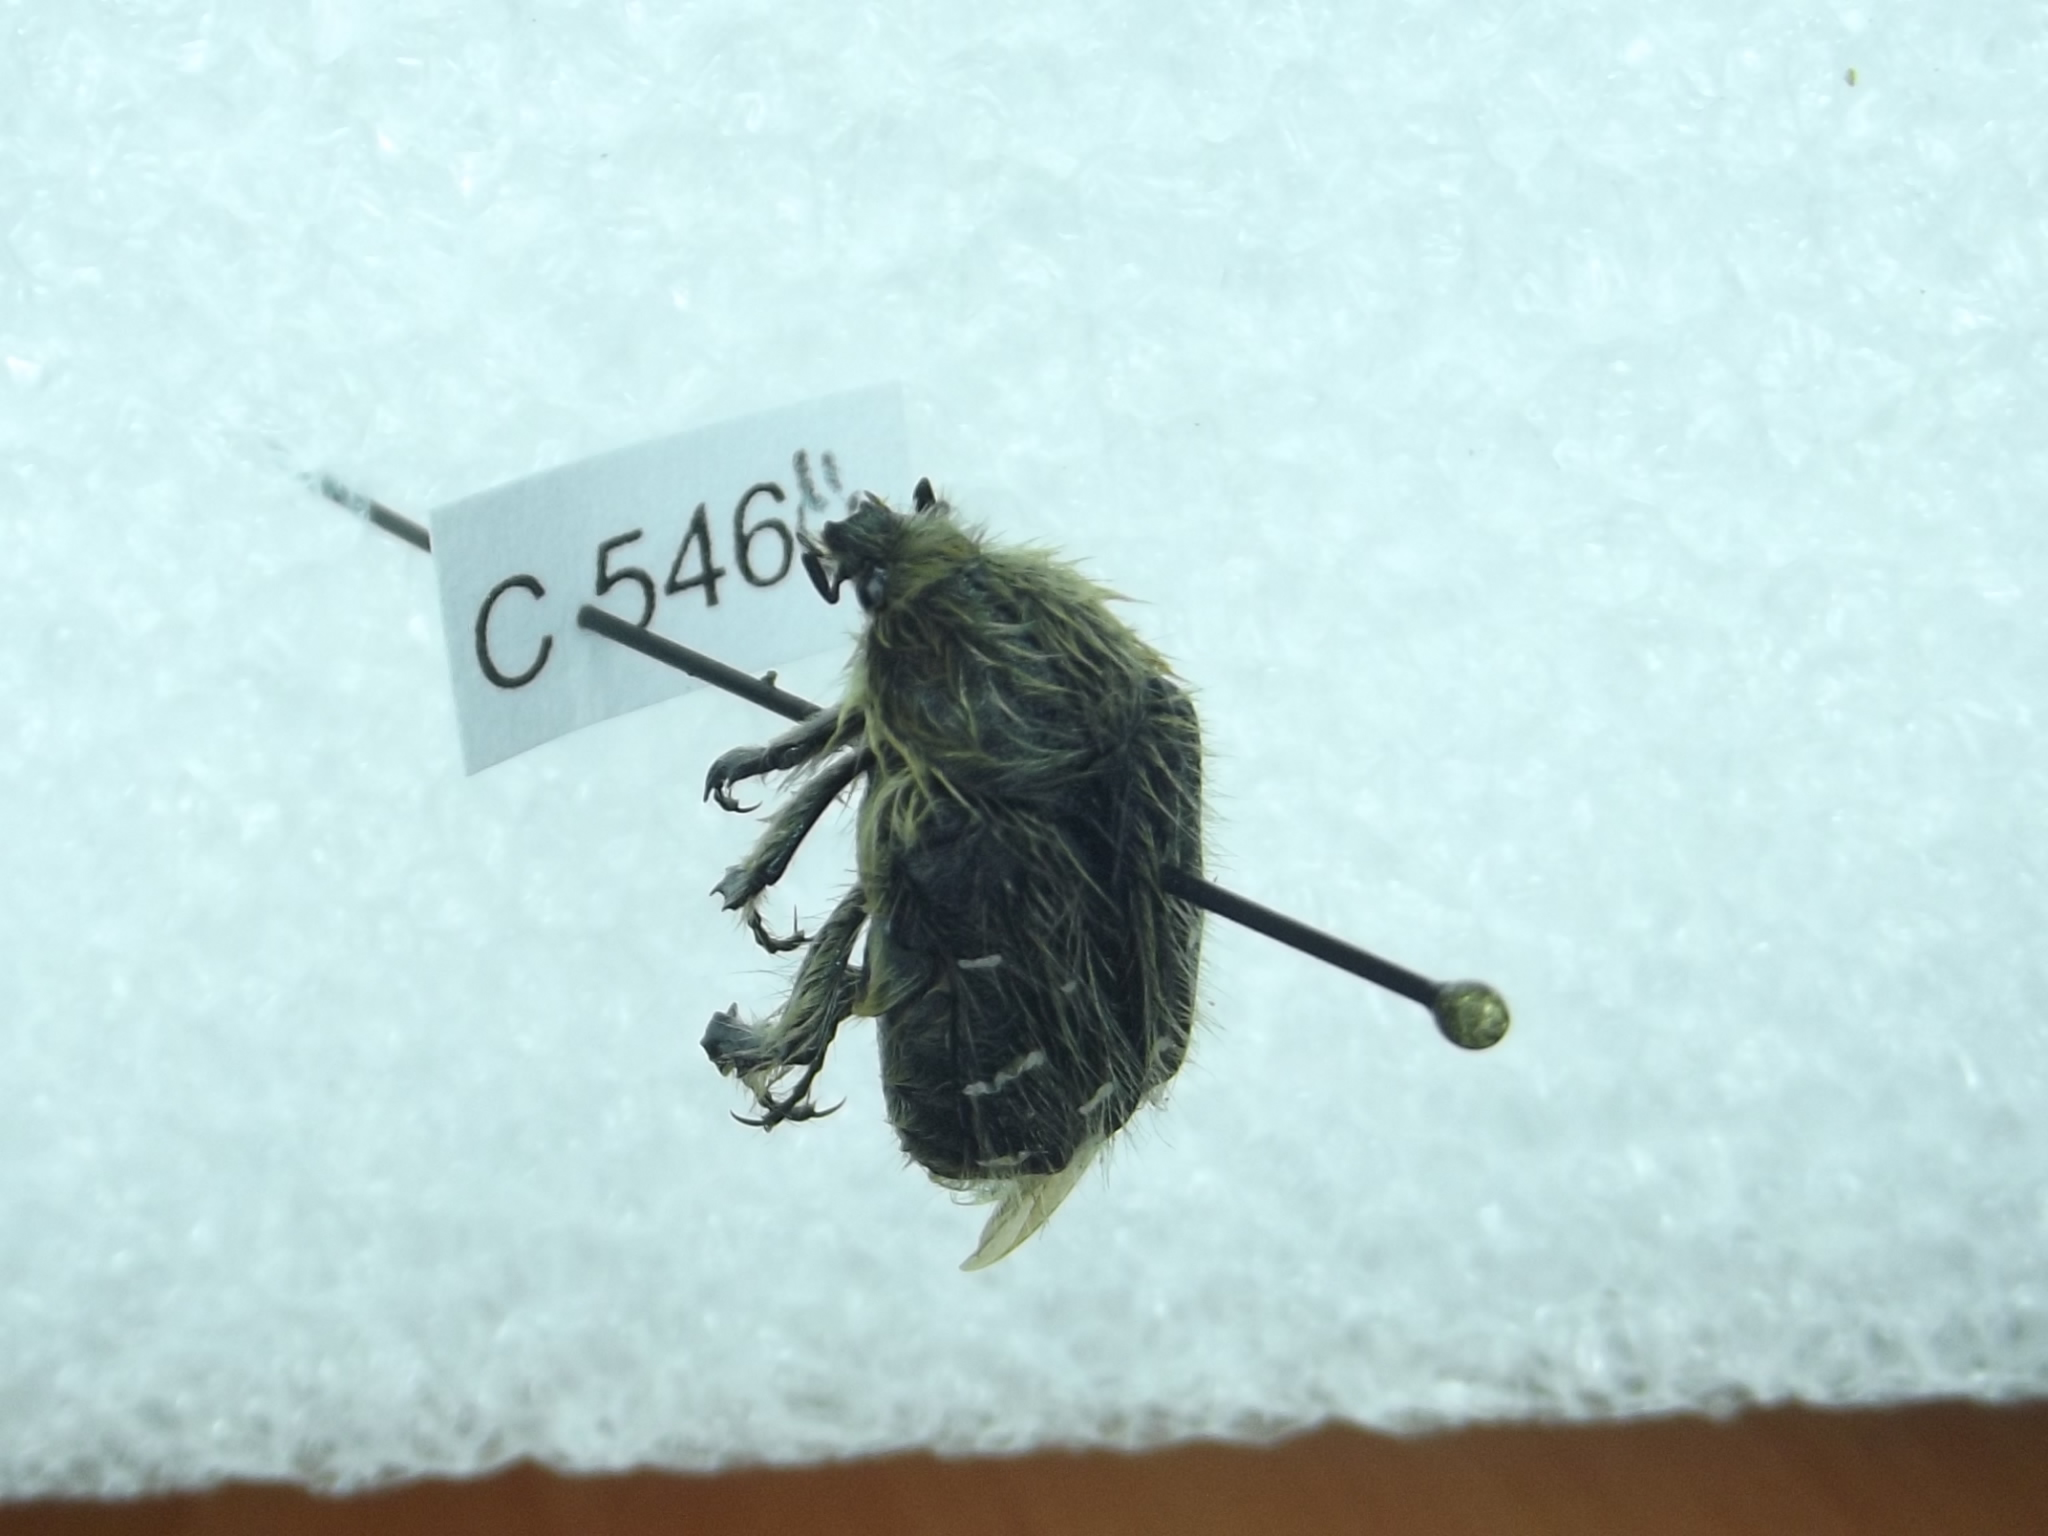Tropinota_senicula: (669, 458, 1268, 1292)
